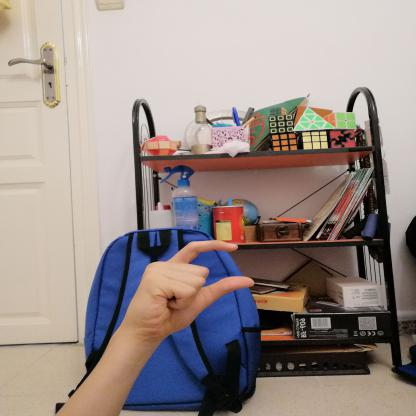DELL: (120, 231, 264, 341)
